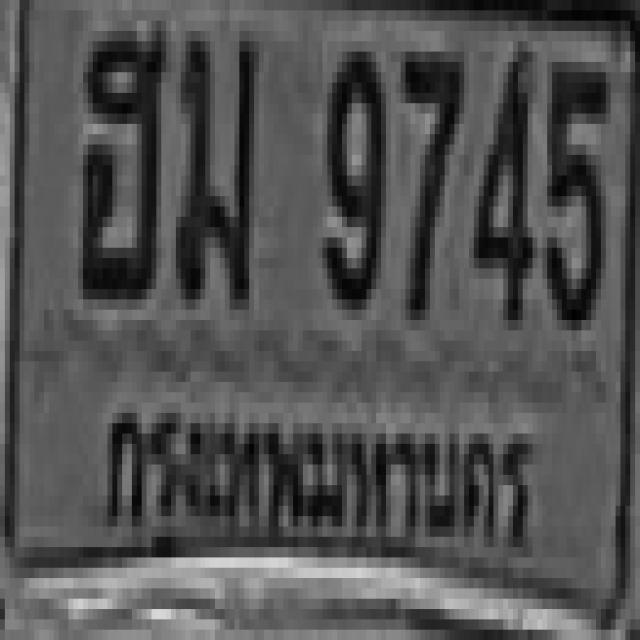4: (473, 47, 531, 325)
42MorMa: (175, 27, 258, 305)
5: (542, 52, 606, 320)
53HorNokHook: (77, 24, 165, 302)
7: (403, 45, 461, 314)
9: (321, 46, 384, 304)
Bangkok: (88, 384, 544, 584)
